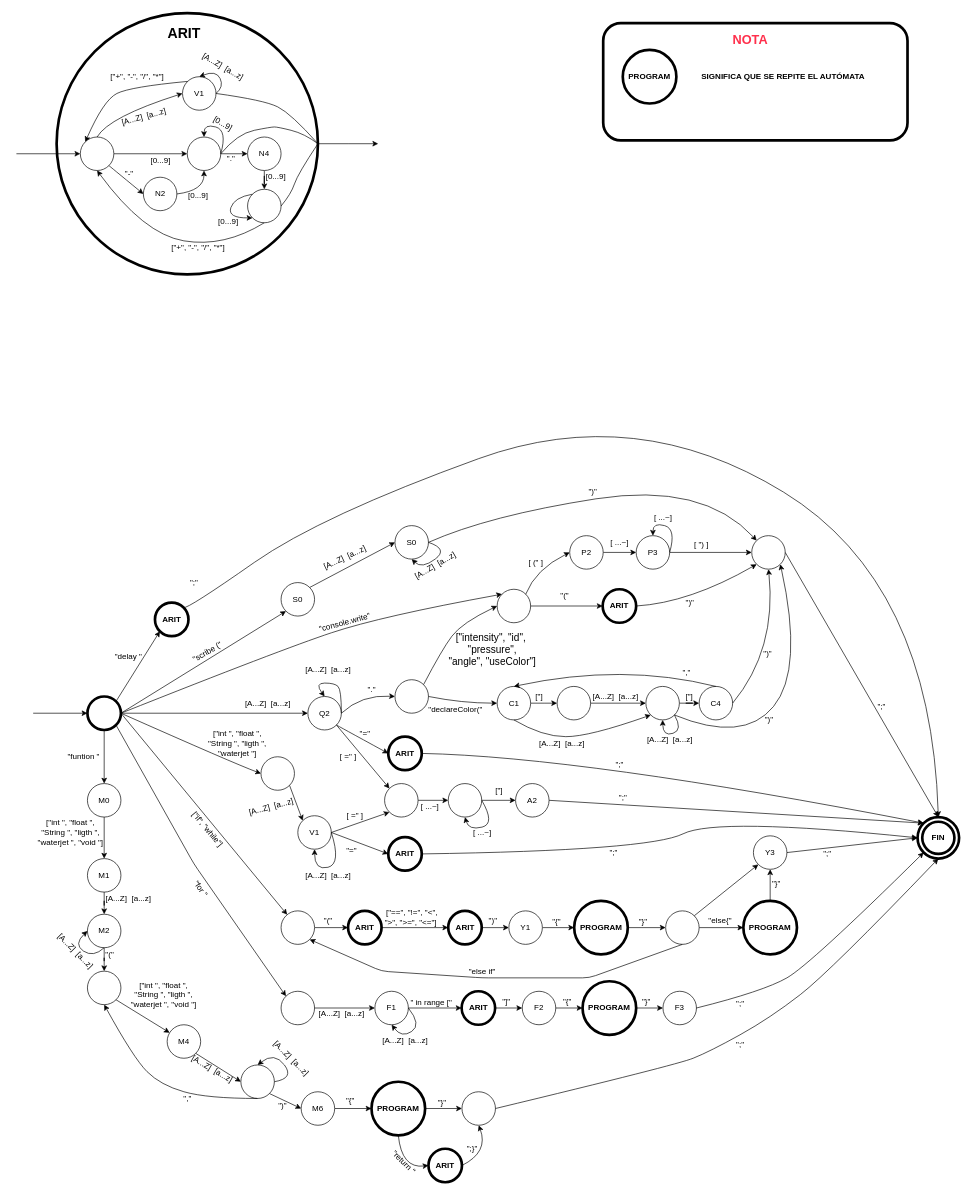
Image size: 972x1195. Some labels were removed from this diagram. Each missing label, with the centre of its shape:
A0: (401,800)
A1: (465,800)
C2: (573,703)
C3: (662,703)
F0: (297,1008)
INICIO: (104,713)
M3: (104,987)
M5: (257,1081)
M7: (478,1108)
N1: (97,153)
N3: (204,153)
N5: (264,206)
P1: (513,606)
P4: (768,552)
Q3: (411,696)
V0: (277,773)
Y0: (297,927)
Y2: (682,927)
